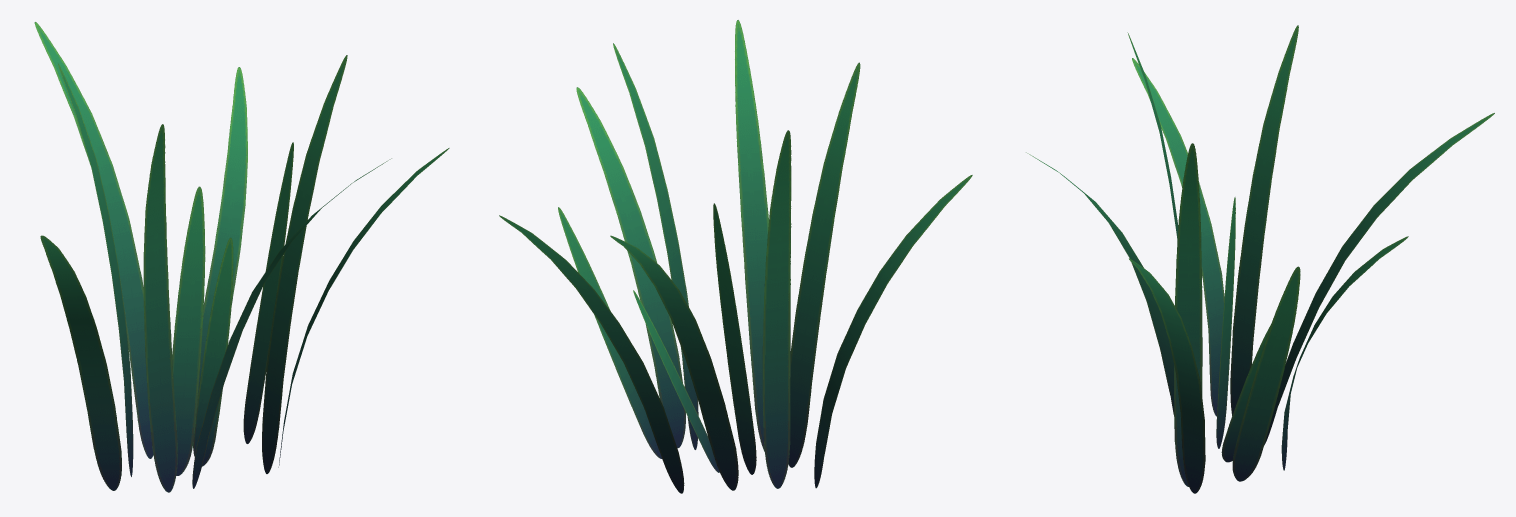
The model's file is grass_clump_b.glb.
The picture shows the model from 3 angles, left to right: view 1: azimuth 30°, elevation 25°; view 2: azimuth 150°, elevation 25°; view 3: azimuth 270°, elevation 25°; orthographic projection. The views are drawn at different scales.
Visible parts, largest first — view 1: Grass:Grass_low6_Grass:Grass_MAT_0, Grass:Grass_low12_Grass:Grass_MAT_0, Grass:Grass_low9_Grass:Grass_MAT_0, Grass:Grass_low10_Grass:Grass_MAT_0, Grass:Grass_Master1_Grass:Grass_MAT_0, Grass:Grass_low13_Grass:Grass_MAT_0, Grass:Grass_Master3_Grass:Grass_MAT_0, Grass:Grass_Master2_Grass:Grass_MAT_0, Grass:Grass_low11_Grass:Grass_MAT_0, Grass:Grass_low8_Grass:Grass_MAT_0, Grass:Grass_low7_Grass:Grass_MAT_0; view 2: Grass:Grass_low11_Grass:Grass_MAT_0, Grass:Grass_low6_Grass:Grass_MAT_0, Grass:Grass_low8_Grass:Grass_MAT_0, Grass:Grass_low7_Grass:Grass_MAT_0, Grass:Grass_low12_Grass:Grass_MAT_0, Grass:Grass_low13_Grass:Grass_MAT_0, Grass:Grass_low10_Grass:Grass_MAT_0, Grass:Grass_Master1_Grass:Grass_MAT_0, Grass:Grass_low9_Grass:Grass_MAT_0, Grass:Grass_Master3_Grass:Grass_MAT_0, Grass:Grass_Master2_Grass:Grass_MAT_0; view 3: Grass:Grass_low11_Grass:Grass_MAT_0, Grass:Grass_Master3_Grass:Grass_MAT_0, Grass:Grass_low9_Grass:Grass_MAT_0, Grass:Grass_low7_Grass:Grass_MAT_0, Grass:Grass_low10_Grass:Grass_MAT_0, Grass:Grass_low12_Grass:Grass_MAT_0, Grass:Grass_Master1_Grass:Grass_MAT_0, Grass:Grass_low8_Grass:Grass_MAT_0, Grass:Grass_low13_Grass:Grass_MAT_0, Grass:Grass_Master2_Grass:Grass_MAT_0, Grass:Grass_low6_Grass:Grass_MAT_0.
Boxes of the visible parts, x1,y1,x2,y2 form: Grass:Grass_low6_Grass:Grass_MAT_0: (143, 124, 177, 492); Grass:Grass_low12_Grass:Grass_MAT_0: (34, 22, 153, 458); Grass:Grass_low9_Grass:Grass_MAT_0: (262, 55, 347, 473); Grass:Grass_low10_Grass:Grass_MAT_0: (40, 235, 121, 490); Grass:Grass_Master1_Grass:Grass_MAT_0: (172, 186, 205, 475); Grass:Grass_low13_Grass:Grass_MAT_0: (198, 67, 247, 391); Grass:Grass_Master3_Grass:Grass_MAT_0: (243, 142, 293, 443); Grass:Grass_Master2_Grass:Grass_MAT_0: (193, 237, 233, 466); Grass:Grass_low11_Grass:Grass_MAT_0: (58, 63, 133, 476); Grass:Grass_low8_Grass:Grass_MAT_0: (192, 158, 391, 488); Grass:Grass_low7_Grass:Grass_MAT_0: (278, 148, 449, 467); Grass:Grass_low11_Grass:Grass_MAT_0: (762, 130, 791, 488); Grass:Grass_low6_Grass:Grass_MAT_0: (788, 62, 860, 467); Grass:Grass_low8_Grass:Grass_MAT_0: (735, 20, 768, 451); Grass:Grass_low7_Grass:Grass_MAT_0: (576, 87, 685, 448); Grass:Grass_low12_Grass:Grass_MAT_0: (610, 235, 738, 490); Grass:Grass_low13_Grass:Grass_MAT_0: (499, 215, 684, 493); Grass:Grass_low10_Grass:Grass_MAT_0: (814, 175, 972, 488); Grass:Grass_Master1_Grass:Grass_MAT_0: (713, 203, 756, 474); Grass:Grass_low9_Grass:Grass_MAT_0: (613, 43, 698, 449); Grass:Grass_Master3_Grass:Grass_MAT_0: (558, 207, 661, 458); Grass:Grass_Master2_Grass:Grass_MAT_0: (633, 290, 719, 472); Grass:Grass_low11_Grass:Grass_MAT_0: (1230, 25, 1298, 415); Grass:Grass_Master3_Grass:Grass_MAT_0: (1232, 266, 1300, 481); Grass:Grass_low9_Grass:Grass_MAT_0: (1174, 143, 1202, 486); Grass:Grass_low7_Grass:Grass_MAT_0: (1129, 258, 1205, 493); Grass:Grass_low10_Grass:Grass_MAT_0: (1132, 58, 1224, 416); Grass:Grass_low12_Grass:Grass_MAT_0: (1264, 113, 1494, 444); Grass:Grass_Master1_Grass:Grass_MAT_0: (1216, 197, 1235, 448); Grass:Grass_low8_Grass:Grass_MAT_0: (1026, 152, 1174, 416); Grass:Grass_low13_Grass:Grass_MAT_0: (1281, 236, 1408, 470); Grass:Grass_Master2_Grass:Grass_MAT_0: (1221, 324, 1271, 462); Grass:Grass_low6_Grass:Grass_MAT_0: (1127, 32, 1178, 240).
Bounding box in the file's own units: 0.6702 × 0.62 × 0.6803.
Materials: 1 (1 with a texture image).
